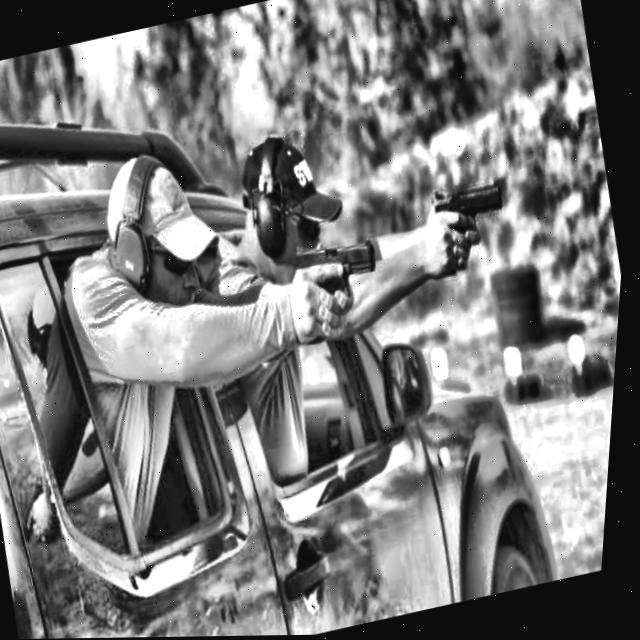pistol: (420, 161, 540, 273)
